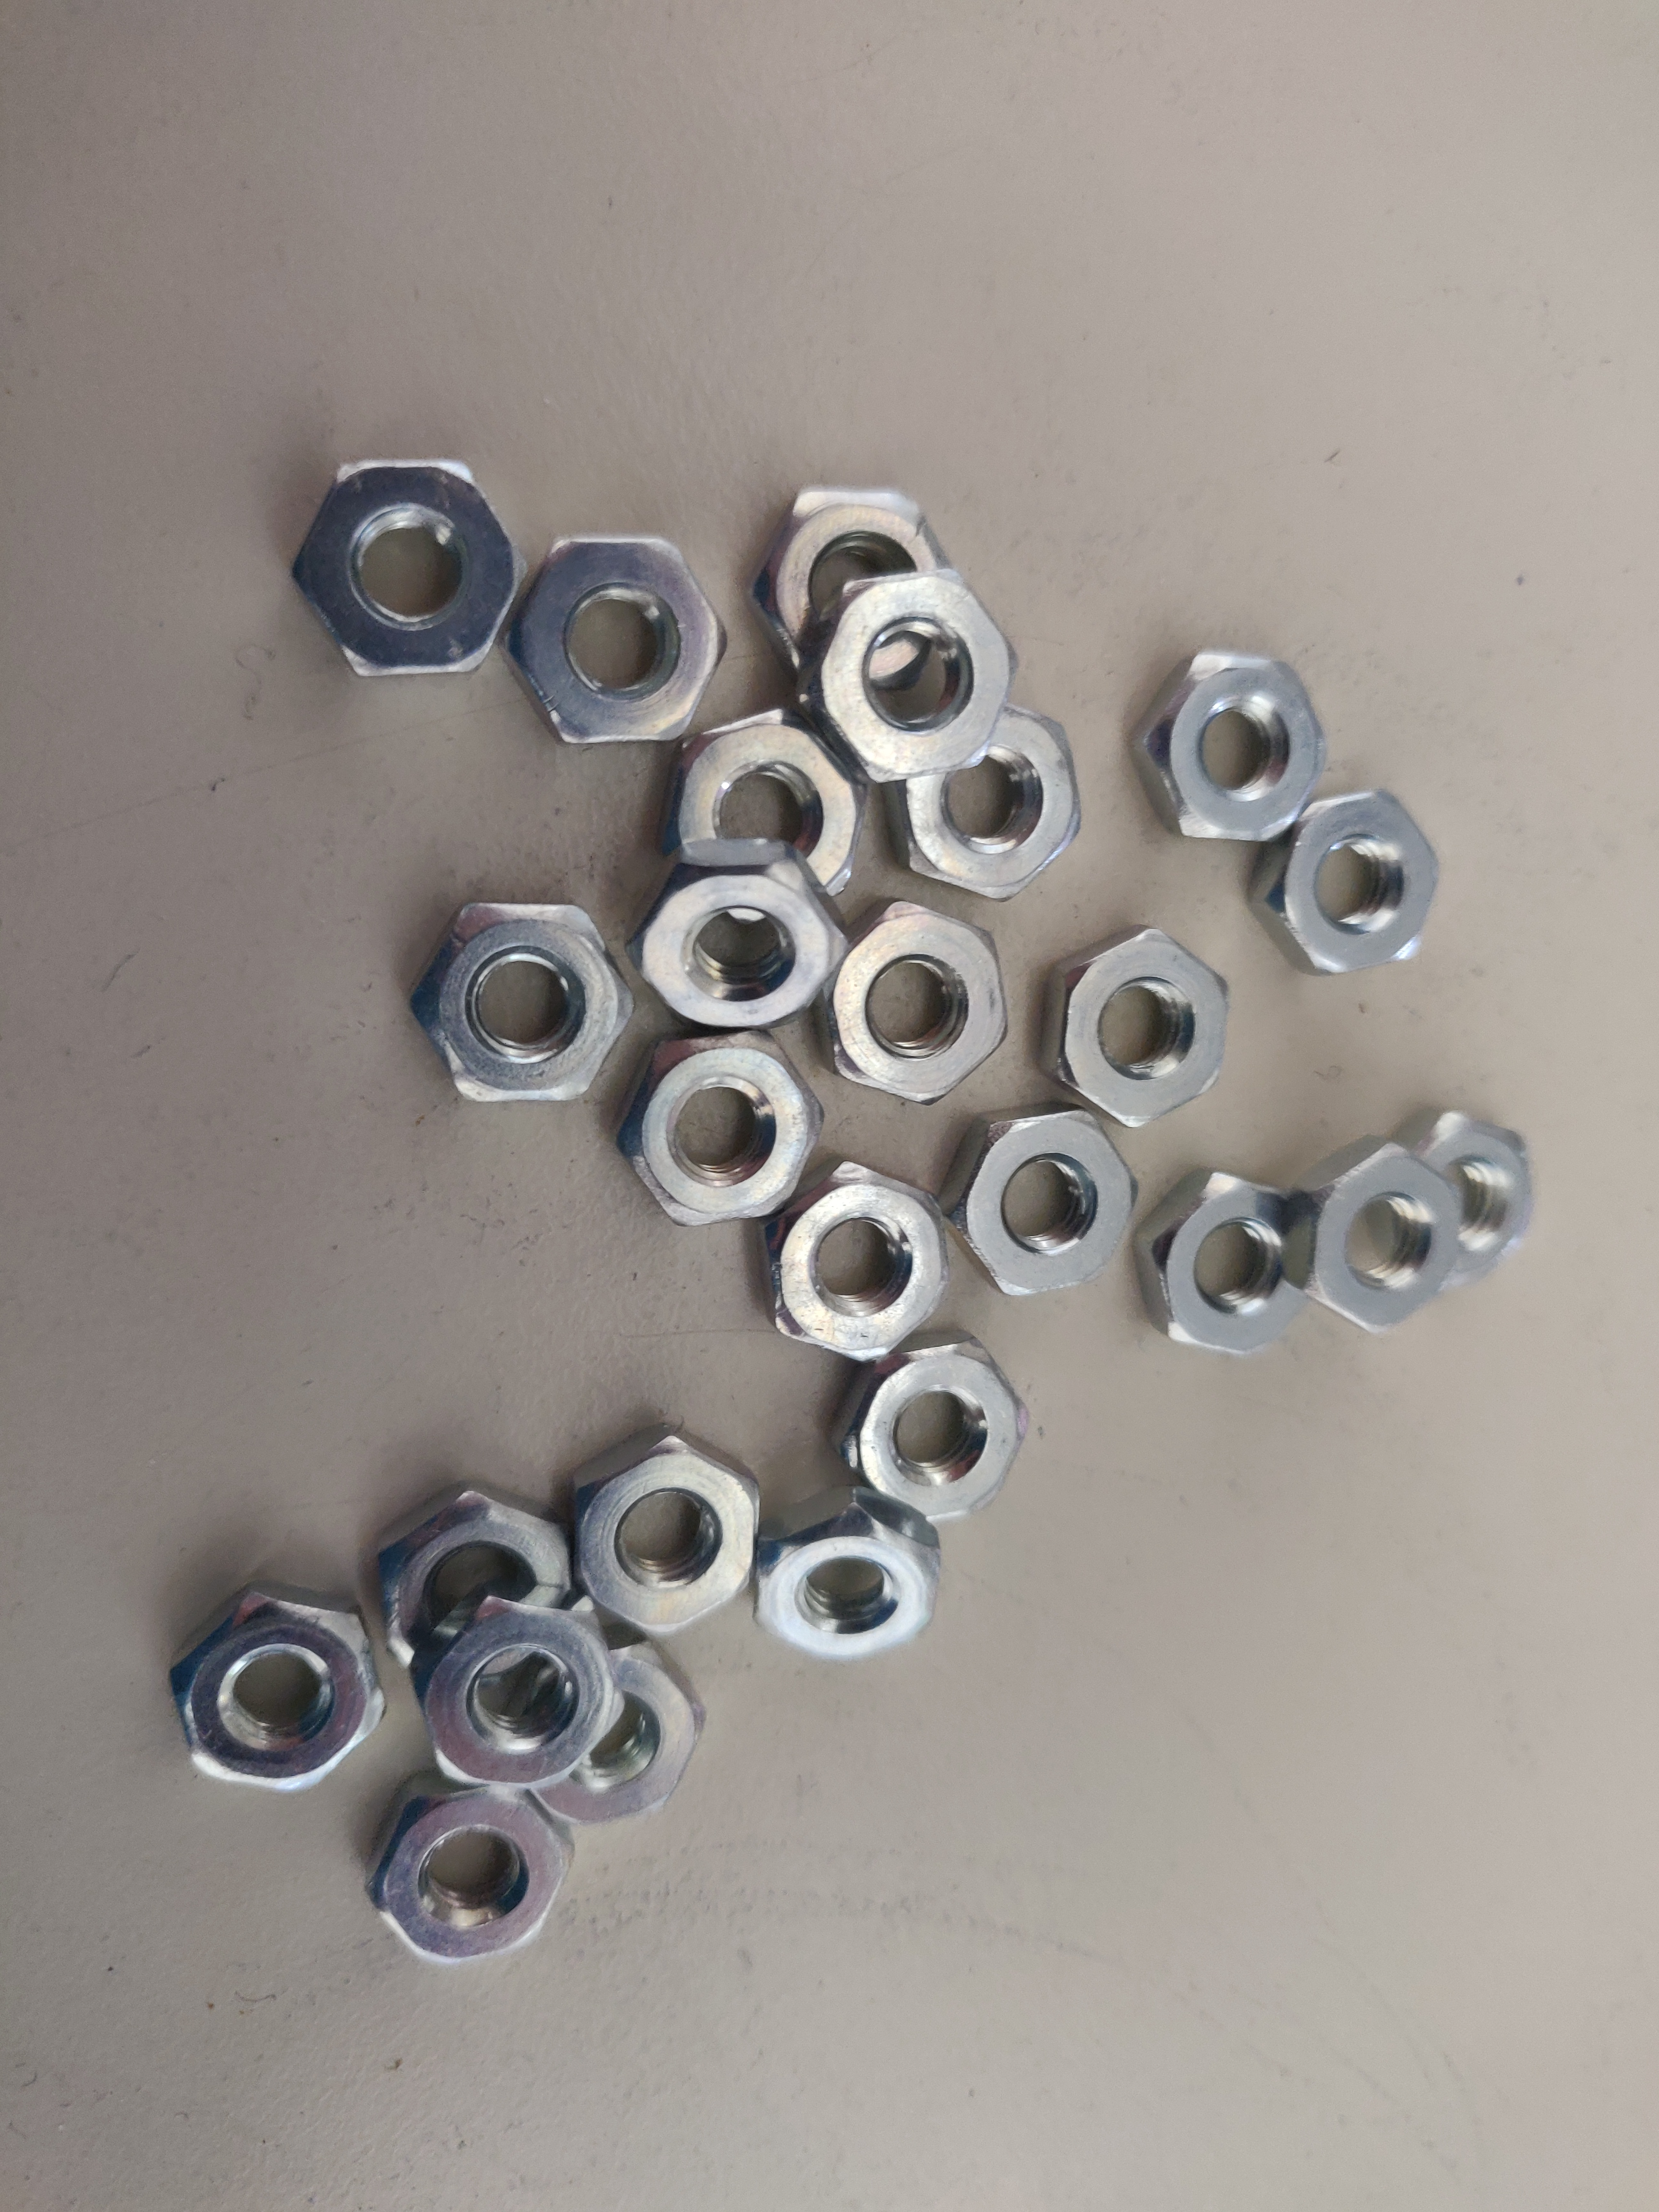nut: (284, 458, 518, 681), (160, 1585, 390, 1792), (411, 897, 631, 1113), (355, 1775, 582, 1970), (554, 1432, 762, 1644), (518, 536, 727, 735), (631, 1036, 829, 1231), (765, 1167, 957, 1369), (1039, 927, 1234, 1123), (415, 1616, 617, 1804), (819, 907, 1007, 1106), (638, 845, 840, 1029), (1134, 650, 1319, 852), (833, 571, 1011, 780), (890, 704, 1080, 897), (946, 1113, 1134, 1308), (681, 714, 871, 897), (1255, 791, 1436, 982), (762, 495, 950, 678), (538, 1644, 720, 1829), (840, 1348, 1021, 1531), (1148, 1163, 1307, 1362), (387, 1493, 563, 1665), (765, 1496, 943, 1665), (1303, 1150, 1460, 1339), (1419, 1106, 1532, 1287)
